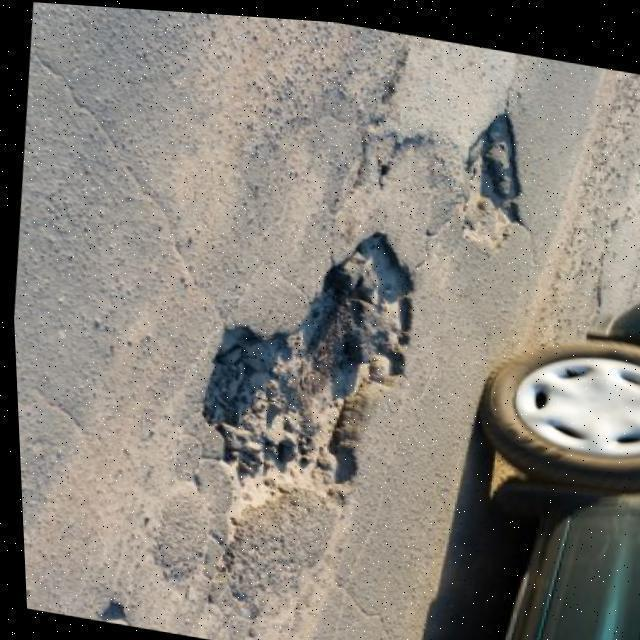Pothole: (187, 223, 420, 524), (444, 101, 529, 256)
